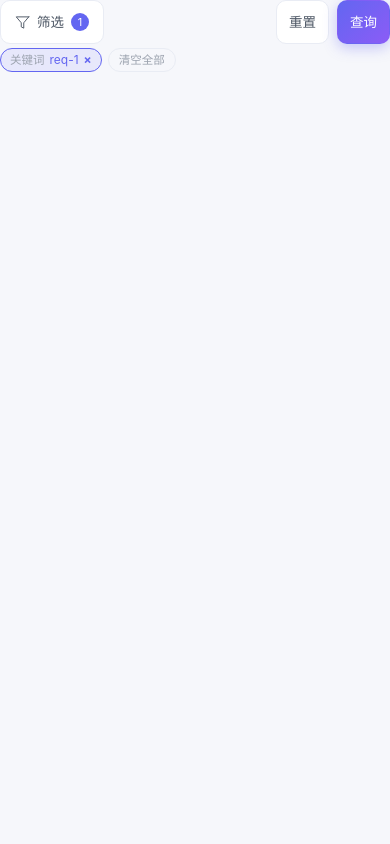
Test case: FilterBar › 清空全部触发重置；移动端折叠为触发条 + 底部 Sheet
Click the button "清空全部": [142, 60] box [108,48,176,72]
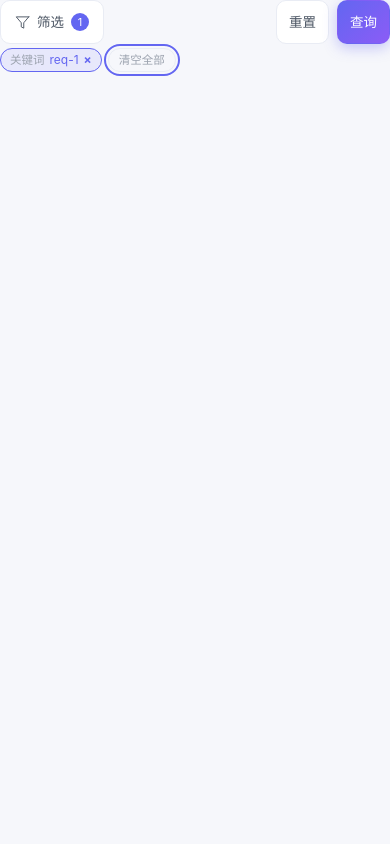
Click the button "筛选 1": [52, 22] box [0,0,104,44]
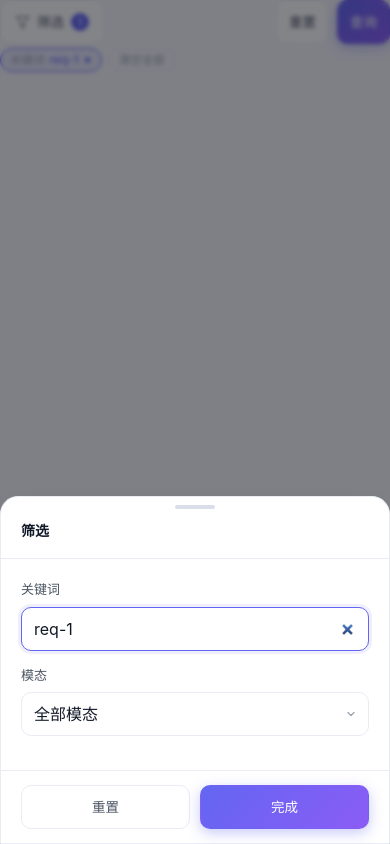
Result: the label "关键词" is shown at [21,581,60,597]
